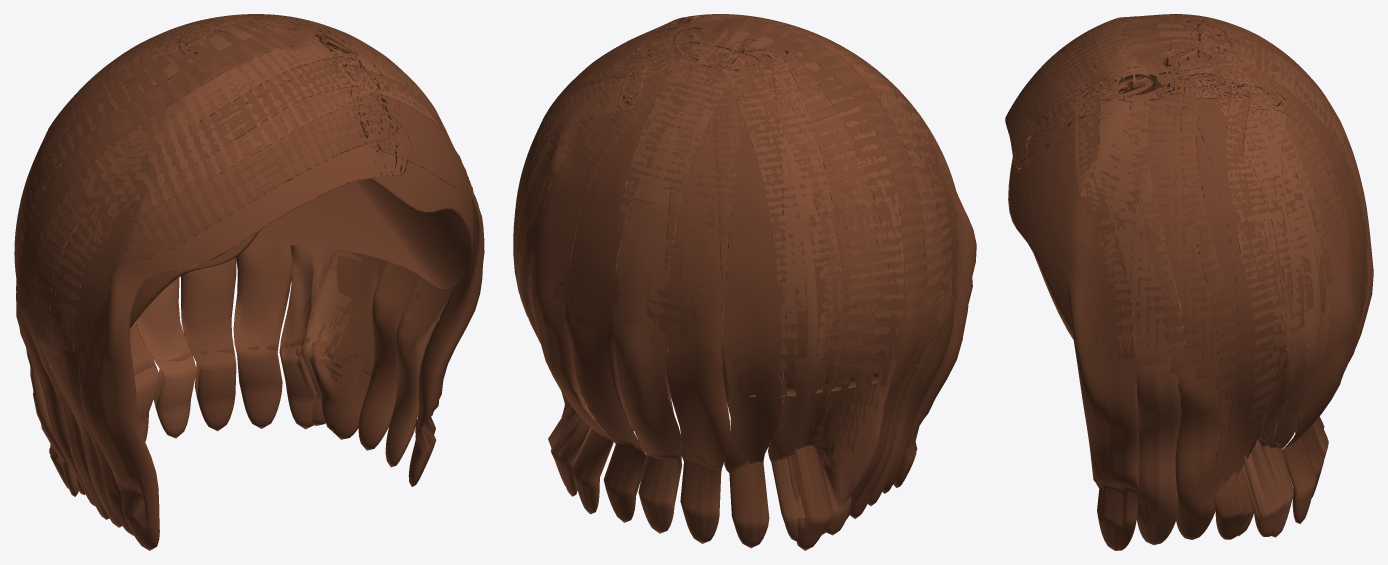
The model's file is Feminine-side-sweep-pashmina-hair.glb.
The picture shows the model from 3 angles, left to right: view 1: azimuth 30°, elevation 25°; view 2: azimuth 150°, elevation 25°; view 3: azimuth 270°, elevation 25°; orthographic projection. The views are drawn at different scales.
Parts seen in each view (by area): view 1: 226 hair / Hair / sculpted 0.002, 226 hair / Hair / sculpted 1.004, 226 hair / Hair / sculpted 2.002, 226 hair / Hair / sculpted 1.003; view 2: 226 hair / Hair / sculpted 0.002, 226 hair / Hair / sculpted 2.002, 226 hair / Hair / sculpted 1.004, 226 hair / Hair / sculpted 1.003; view 3: 226 hair / Hair / sculpted 1.004, 226 hair / Hair / sculpted 2.002, 226 hair / Hair / sculpted 0.002, 226 hair / Hair / sculpted 1.003.
Boxes of the visible parts, x1,y1,x2,y2 form: 226 hair / Hair / sculpted 0.002: (14, 14, 429, 550); 226 hair / Hair / sculpted 1.004: (14, 14, 484, 535); 226 hair / Hair / sculpted 2.002: (14, 14, 453, 527); 226 hair / Hair / sculpted 1.003: (14, 14, 473, 368); 226 hair / Hair / sculpted 0.002: (529, 14, 976, 550); 226 hair / Hair / sculpted 2.002: (513, 14, 953, 541); 226 hair / Hair / sculpted 1.004: (513, 18, 961, 548); 226 hair / Hair / sculpted 1.003: (514, 19, 959, 397); 226 hair / Hair / sculpted 1.004: (1019, 14, 1367, 550); 226 hair / Hair / sculpted 2.002: (1043, 14, 1373, 545); 226 hair / Hair / sculpted 0.002: (1005, 14, 1357, 539); 226 hair / Hair / sculpted 1.003: (1008, 14, 1367, 385).
Size of the model in its own units: 0.9585 by 1.04 by 0.775.
